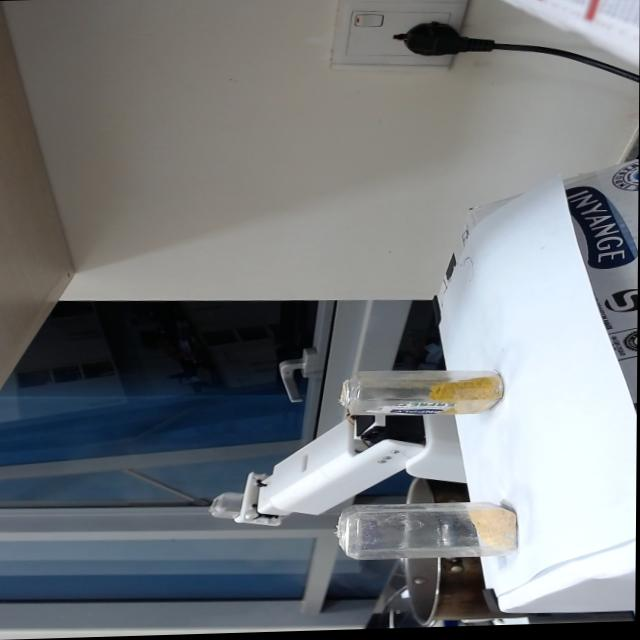curry_powder: (437, 374, 503, 416)
garlic_powder: (468, 508, 520, 552)
